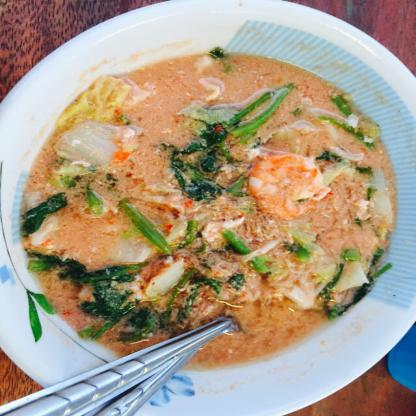Suki: (6, 36, 394, 375)
